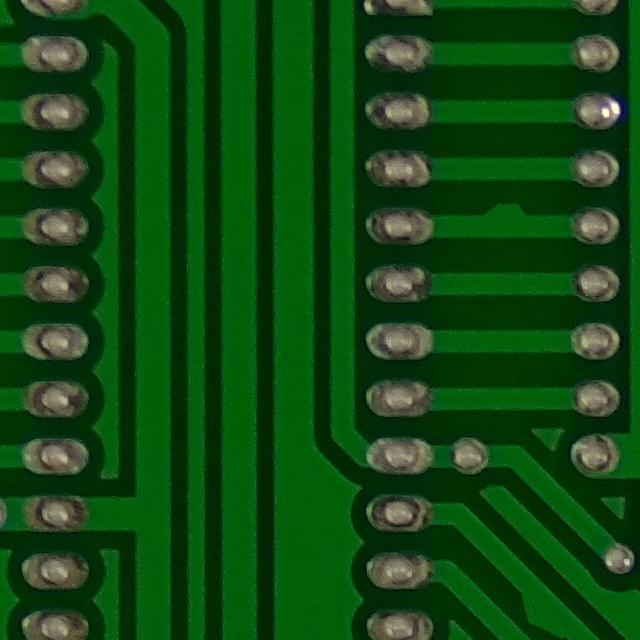spur: (497, 570, 589, 640), (467, 189, 548, 245)
